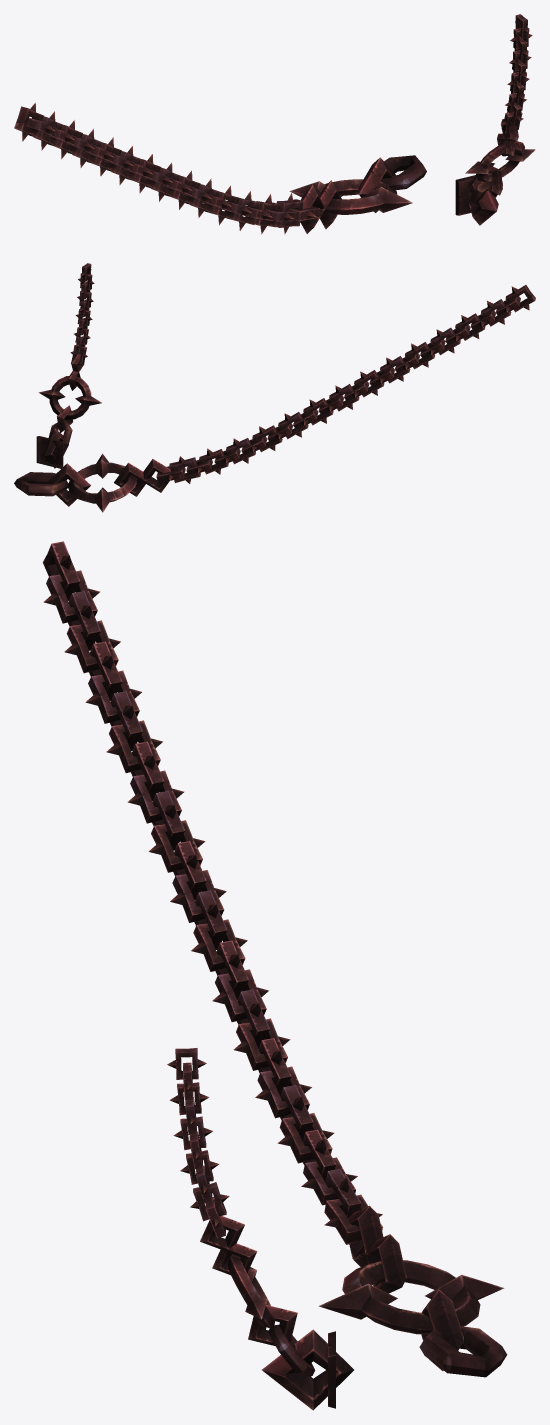
The model's file is mesh_tower_chain05.FBX.
3 views of the same model, one above another, from view 1: azimuth 30°, elevation 25°; view 2: azimuth 150°, elevation 25°; view 3: azimuth 270°, elevation 25° (orthographic). The views are drawn at different scales.
Parts seen in each view (by area): view 1: mesh_tower_chain05; view 2: mesh_tower_chain05; view 3: mesh_tower_chain05.
Part boxes in pixels (bbox=[...]): mesh_tower_chain05: bbox=[14, 14, 535, 234]; mesh_tower_chain05: bbox=[14, 263, 535, 512]; mesh_tower_chain05: bbox=[42, 541, 507, 1410].
Bounding box in the file's own units: 31.57 × 16.16 × 14.26.
